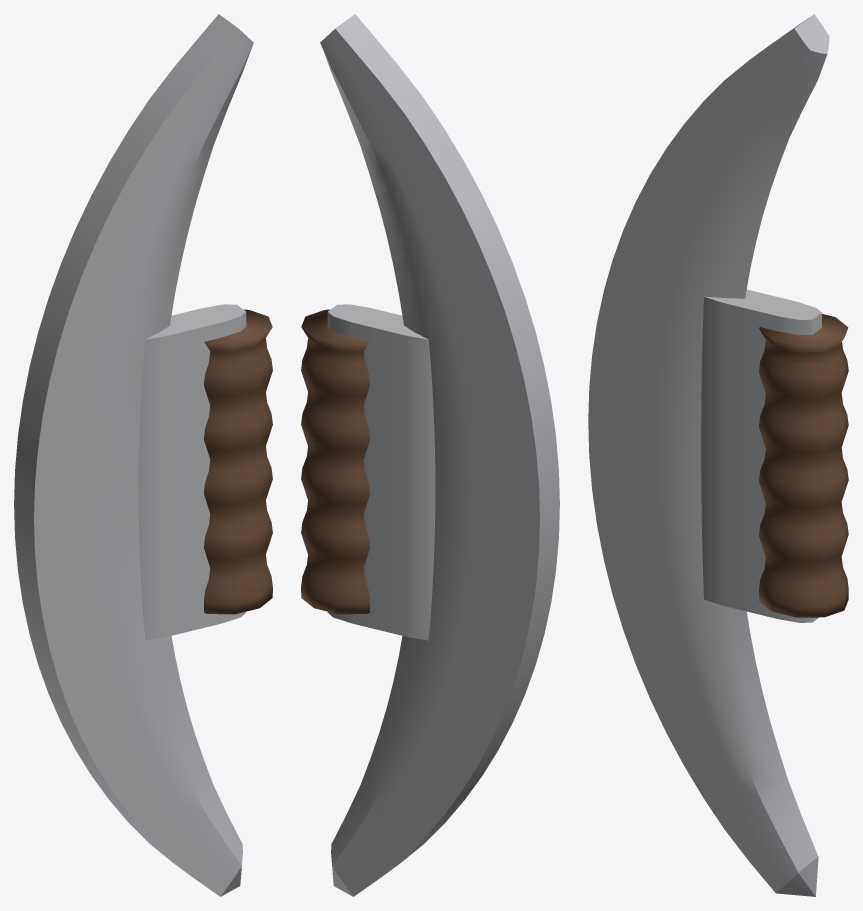
File: lungchuan-tamo.glb
3 renders of one model, left to right at view 1: azimuth 30°, elevation 25°; view 2: azimuth 150°, elevation 25°; view 3: azimuth 330°, elevation 25°, orthographic.
Parts seen in each view (by area): view 1: lungchuan-tamo; view 2: lungchuan-tamo; view 3: lungchuan-tamo.
Boxes of the visible parts, x1,y1,x2,y2 form: lungchuan-tamo: (14, 14, 272, 896); lungchuan-tamo: (301, 14, 559, 896); lungchuan-tamo: (588, 14, 848, 896).
Bounding box in the file's own units: 0.1702 × 0.5763 × 0.0462.
